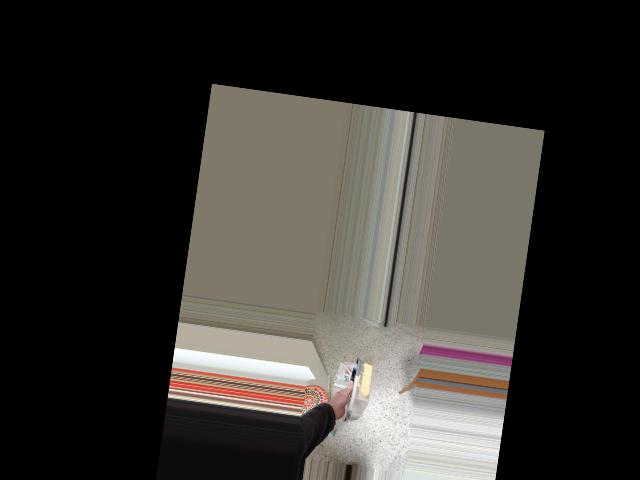cheese: (313, 359, 389, 437)
